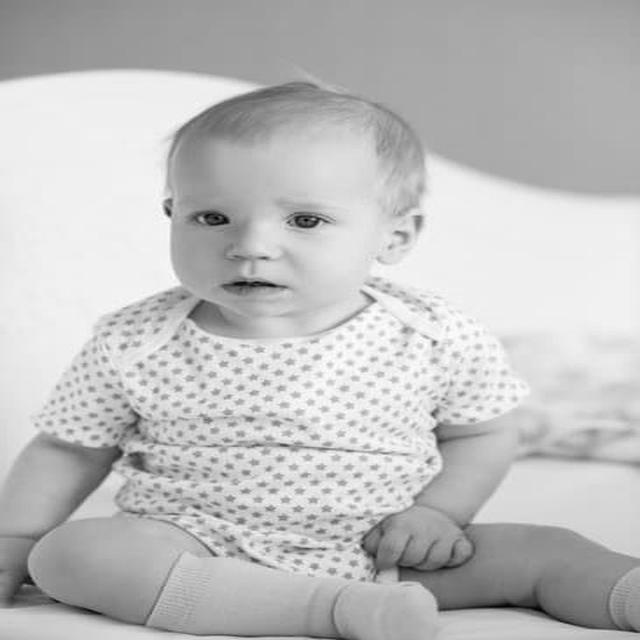Sadness: (173, 141, 353, 312)
